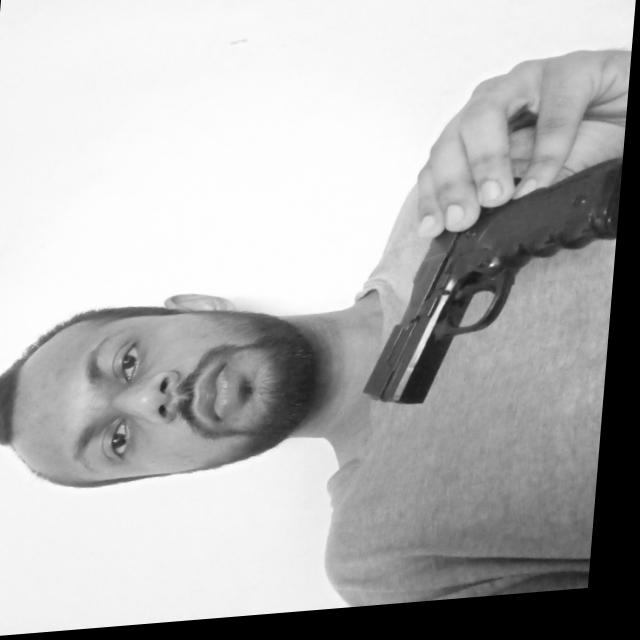handgun: (367, 166, 627, 418)
